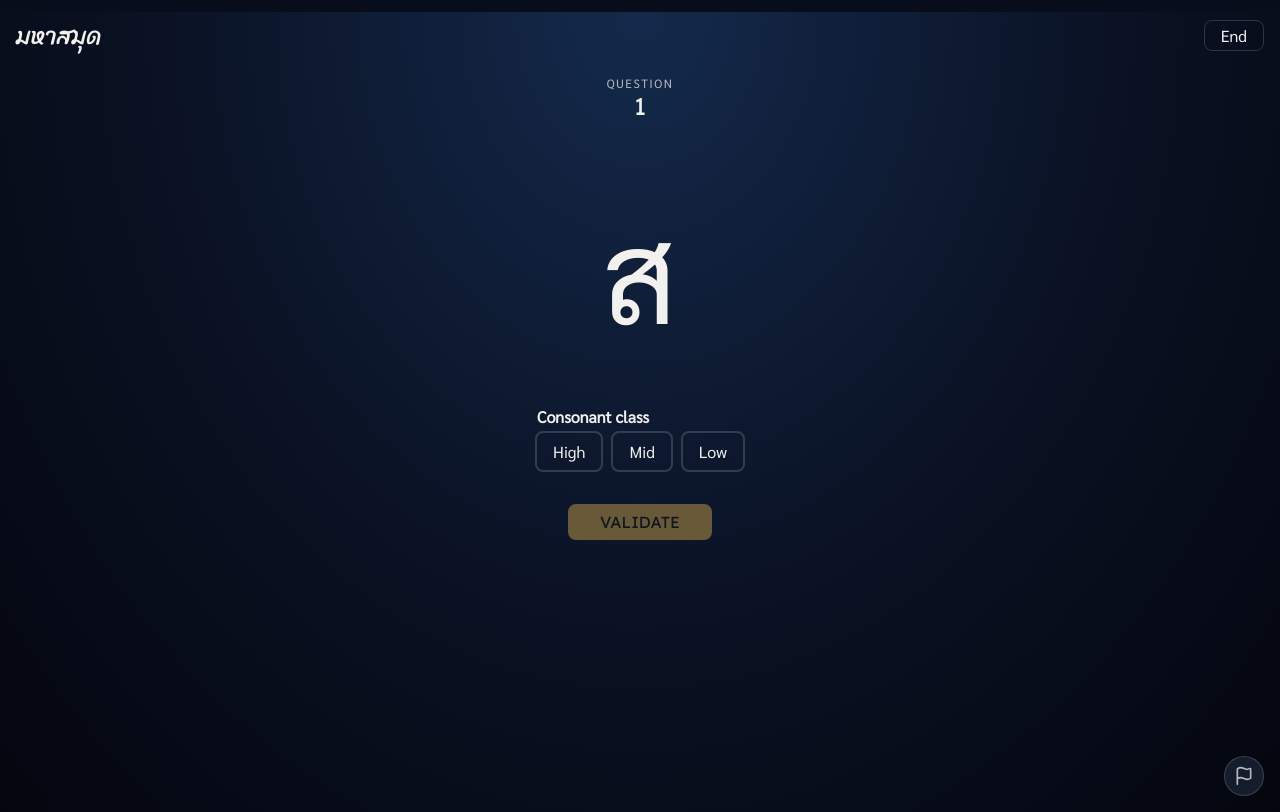
ConsonantClassPage › says Correct! for the right class, then locks the answer
Click the radio button labelled "High" at (569,451), box 535,431 -> 604,472
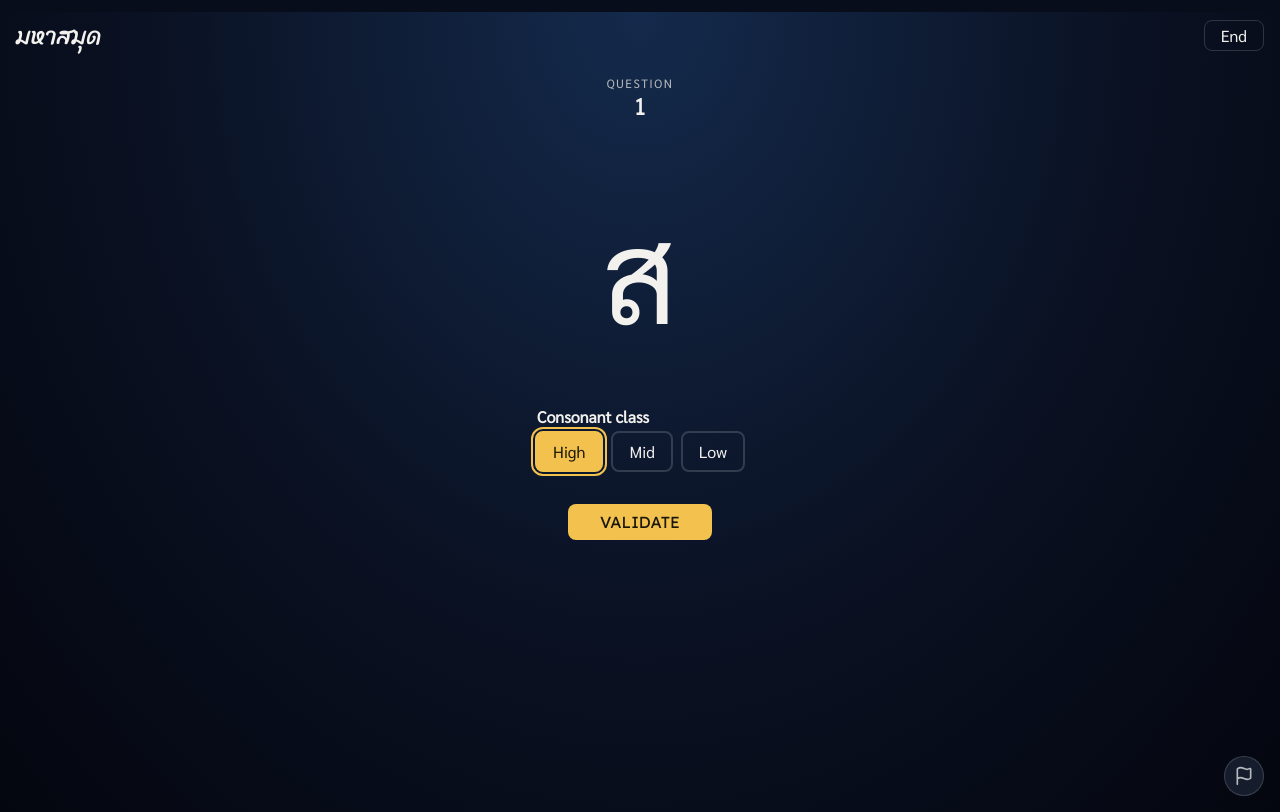
Click the button "Validate" at (640,522), box 568,504 -> 712,540
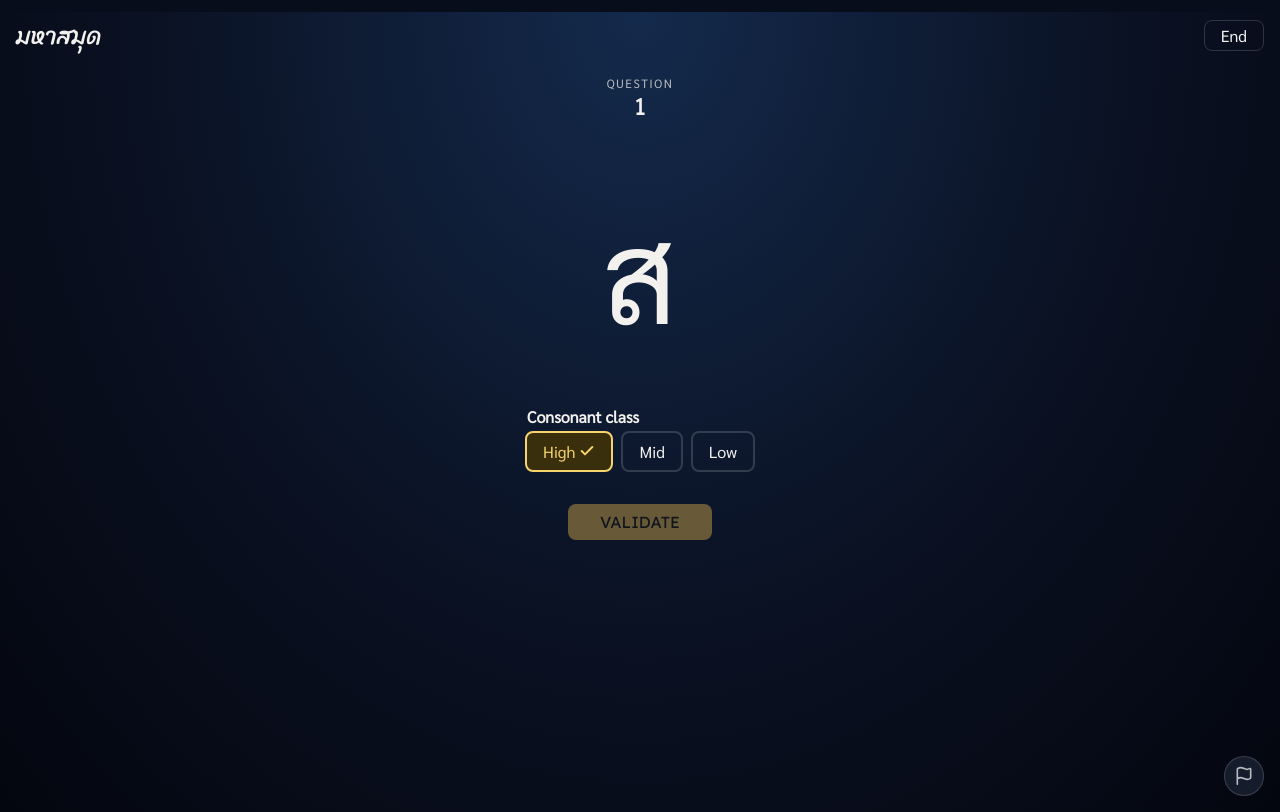
Check: the button "Validate" is disabled, box 568,504 -> 712,540
